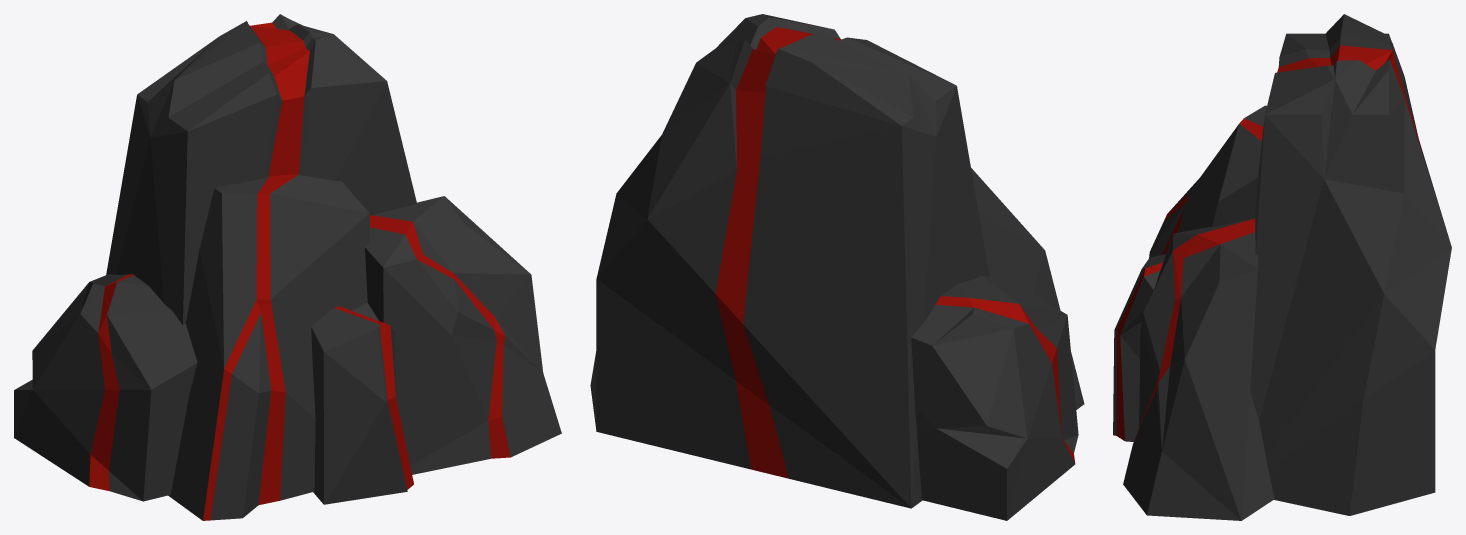
Rendered from rock_00.FBX.
The picture shows the model from 3 angles, left to right: view 1: azimuth 30°, elevation 25°; view 2: azimuth 150°, elevation 25°; view 3: azimuth 270°, elevation 25°; orthographic projection. The views are drawn at different scales.
Visible parts, largest first — view 1: rock_00; view 2: rock_00; view 3: rock_00.
Part boxes in pixels (x1,y1,x2,y2): rock_00: (14, 14, 561, 520); rock_00: (590, 14, 1084, 520); rock_00: (1113, 14, 1451, 520).
Bounding box in the file's own units: 77.13 × 64.93 × 52.36.
